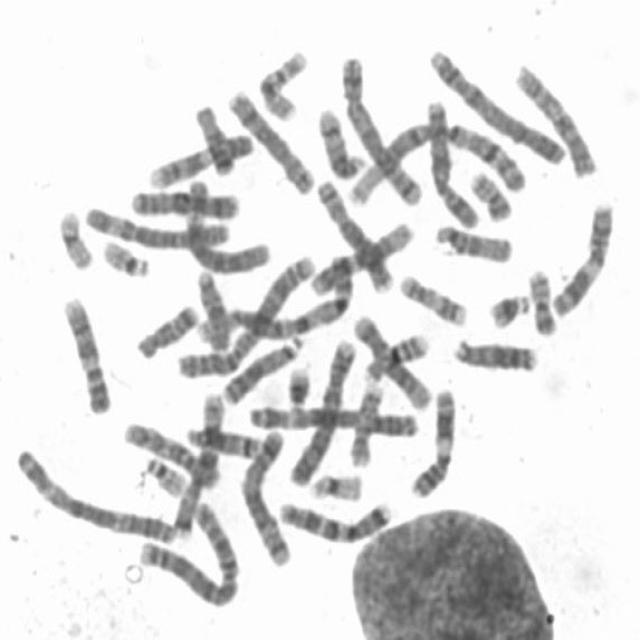A1: (346, 120, 526, 209), (196, 253, 355, 344)
A2: (177, 254, 316, 380), (139, 500, 240, 607)
A3: (16, 448, 178, 546), (247, 404, 420, 438)
B4: (429, 49, 566, 166), (290, 338, 358, 488)
B5: (341, 56, 421, 206), (240, 430, 292, 567)
C10: (515, 62, 596, 179), (123, 422, 220, 490)
C11: (550, 203, 614, 317), (412, 387, 457, 498)
C12: (352, 312, 432, 411), (310, 223, 416, 292)
C6: (184, 179, 270, 275), (84, 207, 231, 250)
C7: (173, 393, 226, 542), (278, 500, 393, 544)
C8: (226, 90, 316, 196), (316, 179, 393, 295)
C9: (62, 295, 113, 414), (150, 134, 254, 189)
D13: (221, 335, 303, 407), (452, 336, 540, 374)
D14: (318, 107, 367, 179), (184, 426, 260, 460)
D15: (433, 223, 514, 265), (197, 270, 231, 352)
E16: (363, 332, 430, 387), (258, 50, 308, 121)
E17: (399, 275, 467, 326), (348, 381, 386, 468)
E18: (135, 304, 199, 360), (194, 105, 234, 177)
F19: (58, 210, 94, 271), (309, 473, 363, 502)
F20: (469, 170, 512, 221), (528, 268, 558, 338)
G21: (488, 293, 532, 329), (287, 368, 311, 408)
G22: (101, 240, 150, 278), (146, 456, 186, 496)
X: (427, 100, 479, 230), (131, 190, 240, 222)
